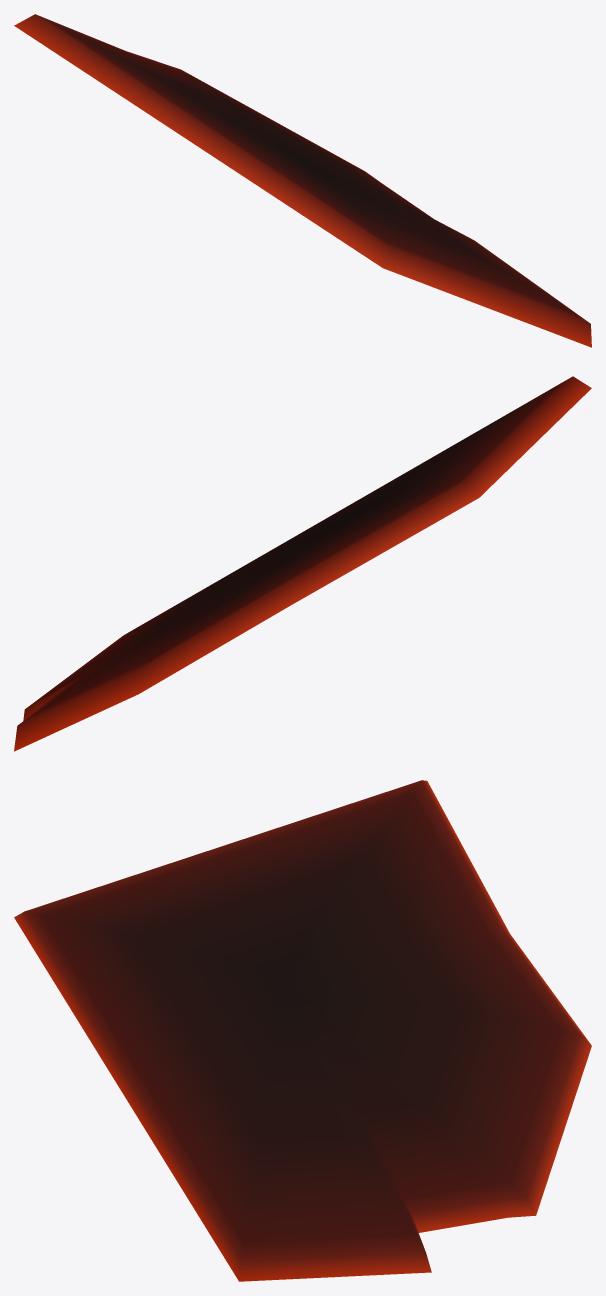
The model's file is raft_36.glb.
3 views of the same model, one above another, from view 1: azimuth 30°, elevation 25°; view 2: azimuth 150°, elevation 25°; view 3: azimuth 270°, elevation 25° (orthographic). The views are drawn at different scales.
Parts seen in each view (by area): view 1: raft; view 2: raft; view 3: raft.
Boxes of the visible parts, <box> form: raft: <box>14,14,591,347</box>; raft: <box>14,376,591,751</box>; raft: <box>14,780,591,1281</box>.
Size of the model in its own units: 1.17 by 0.8746 by 1.46.
